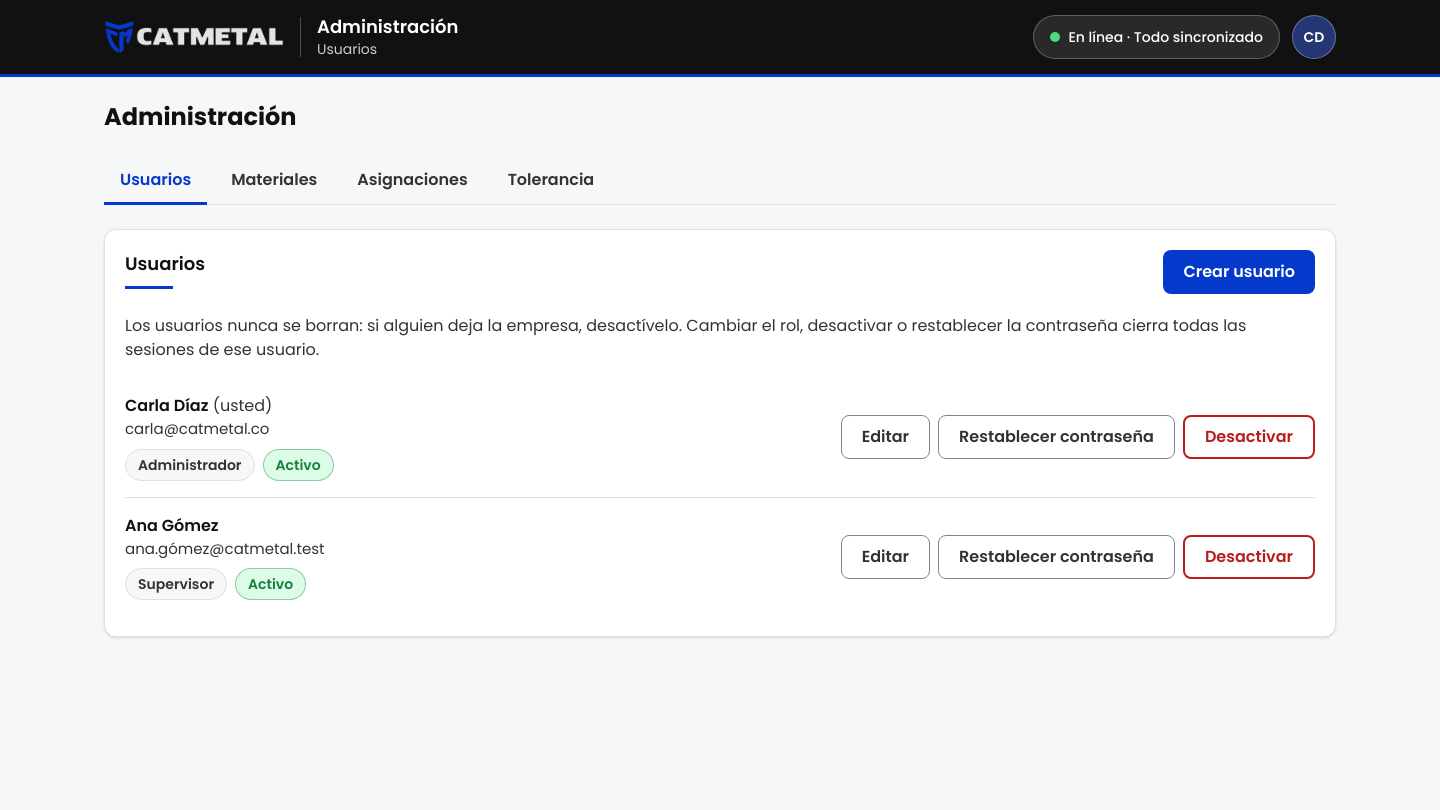
Test: Administración · usuarios › 409 CONFLICTO: recarga la lista y explica que otro admin cambió el usuario
The width and height of the screenshot is (1440, 810).
Click the button with aria-label "Editar a Ana Gómez".
click(885, 557)  # box [841,535,930,579]
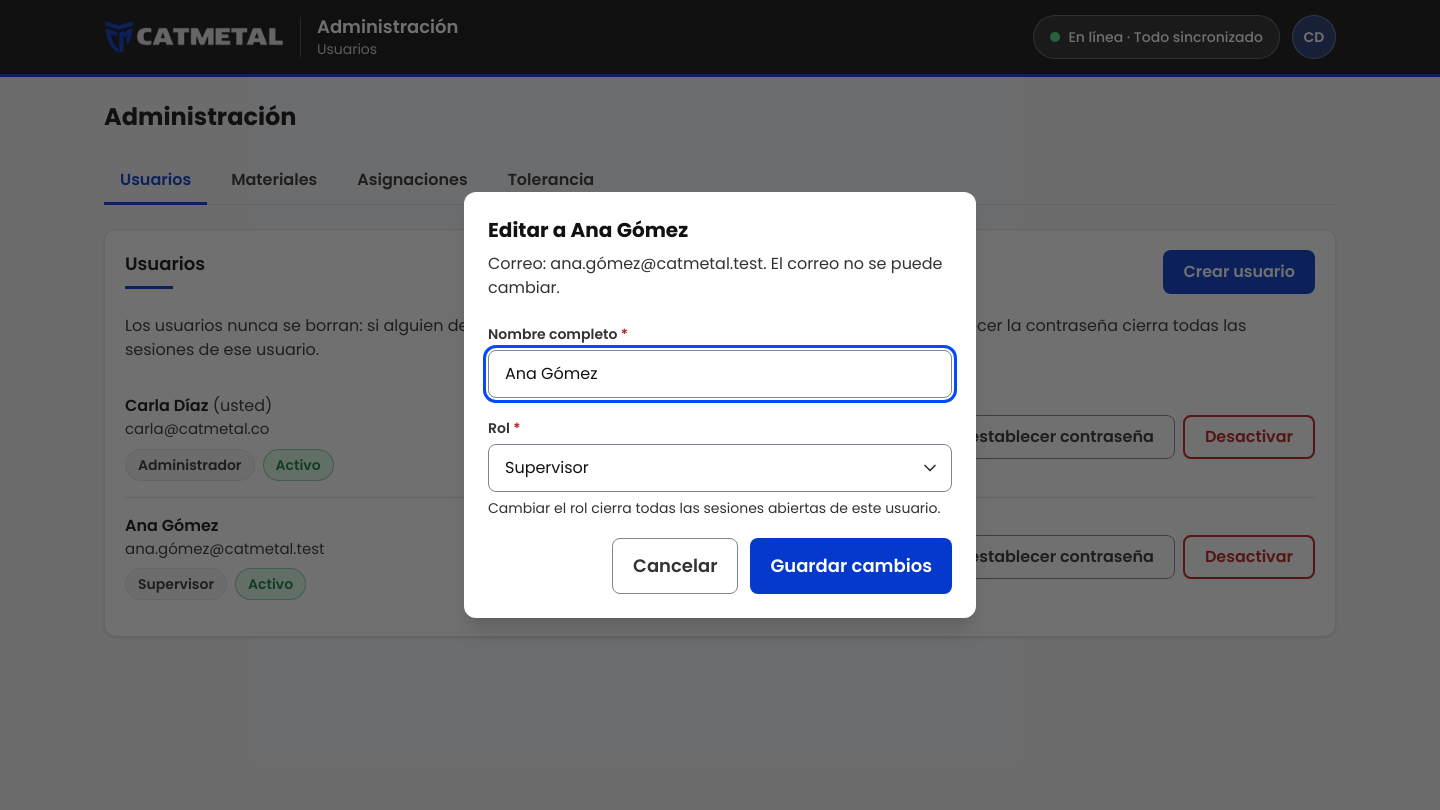
Replace the text in the field labelled "Nombre completo *" with "Ana María Gómez" at (720, 374), box [488,350,952,398]
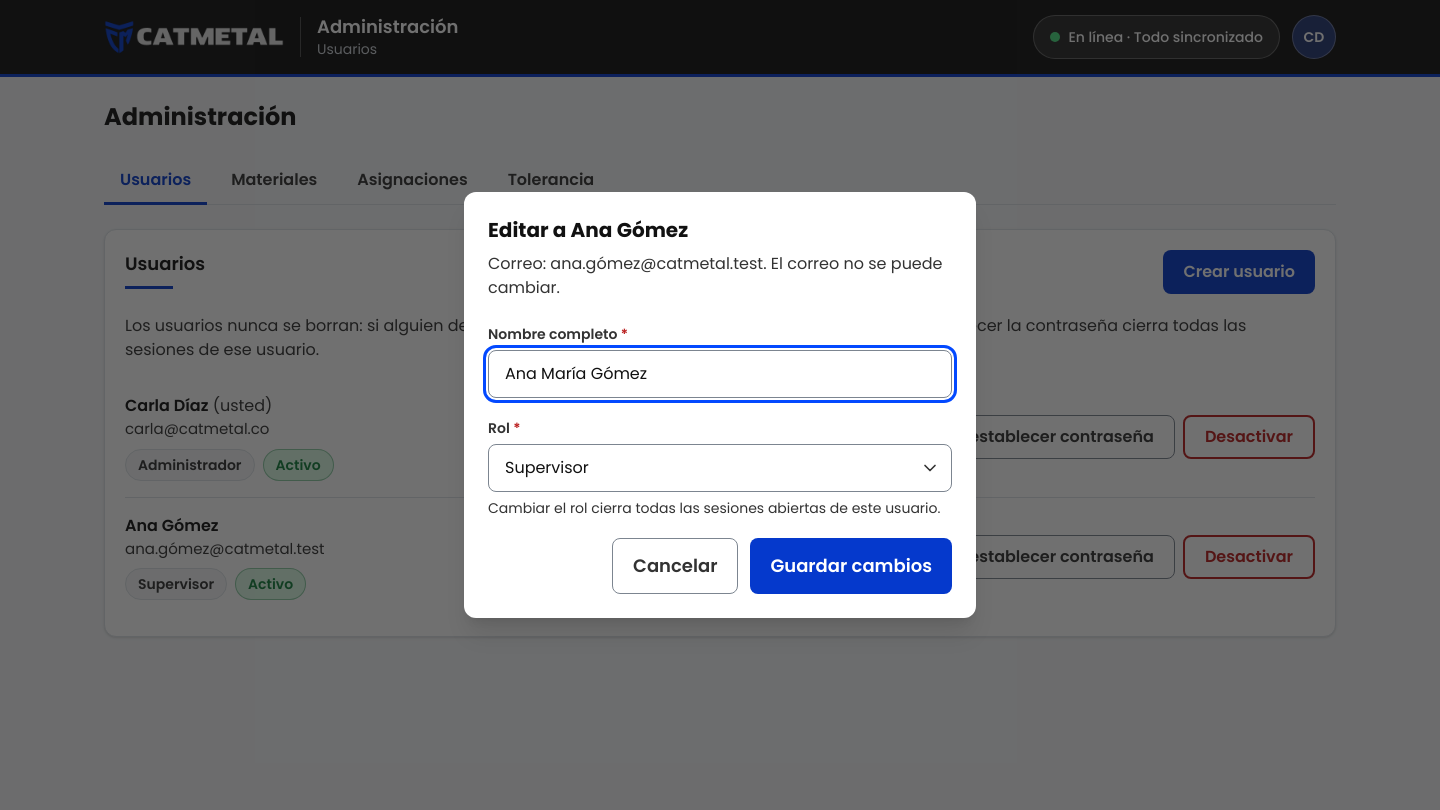
Click the button "Guardar cambios".
click(851, 566)  # box [750,538,952,594]
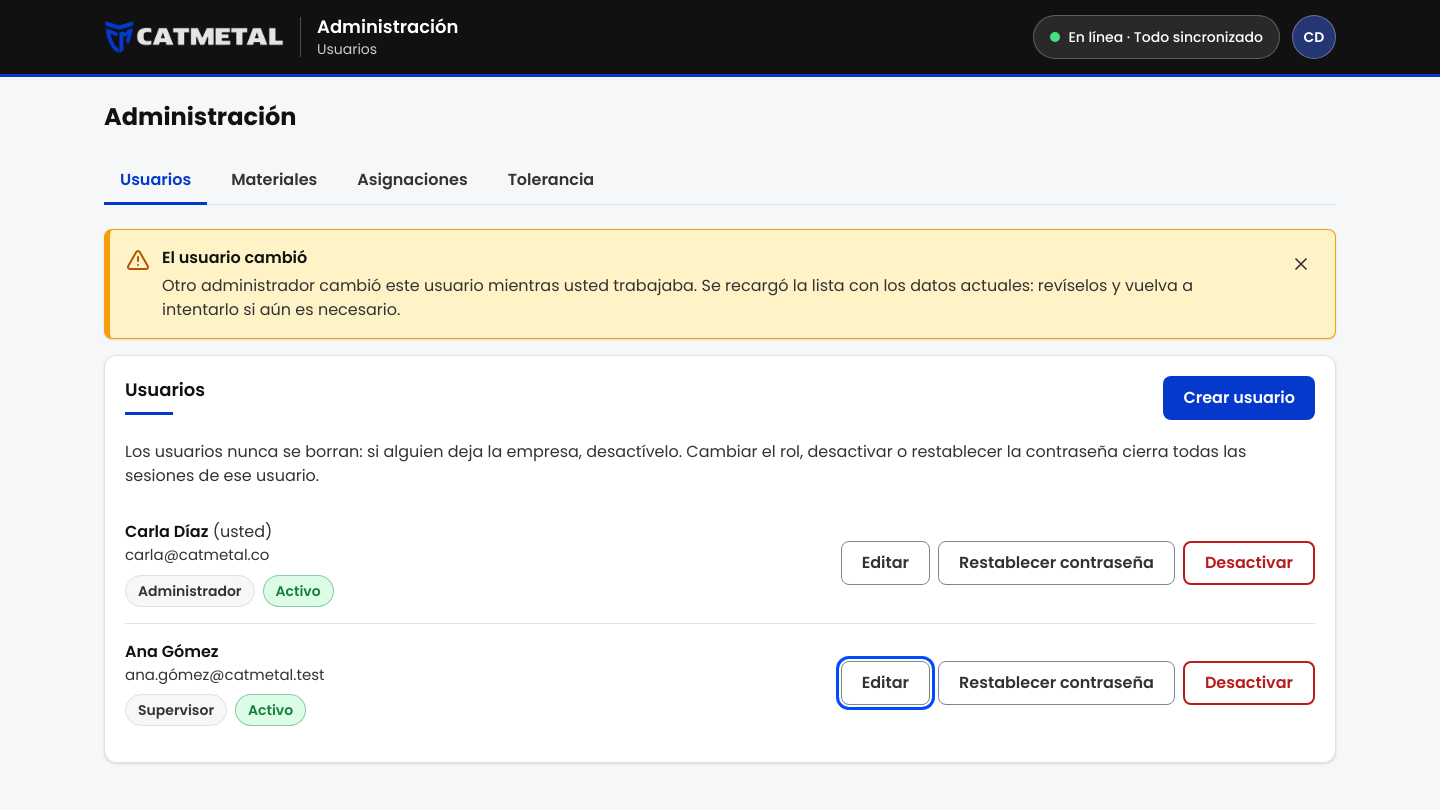
expect the text "Otro administrador cambió este usuario mientras usted trabajaba. Se recargó la lista con los datos actuales: revíselos y" is shown: met, box [162,274,1193,321]
expect the heading "Editar a Ana Gómez" is gone: met
